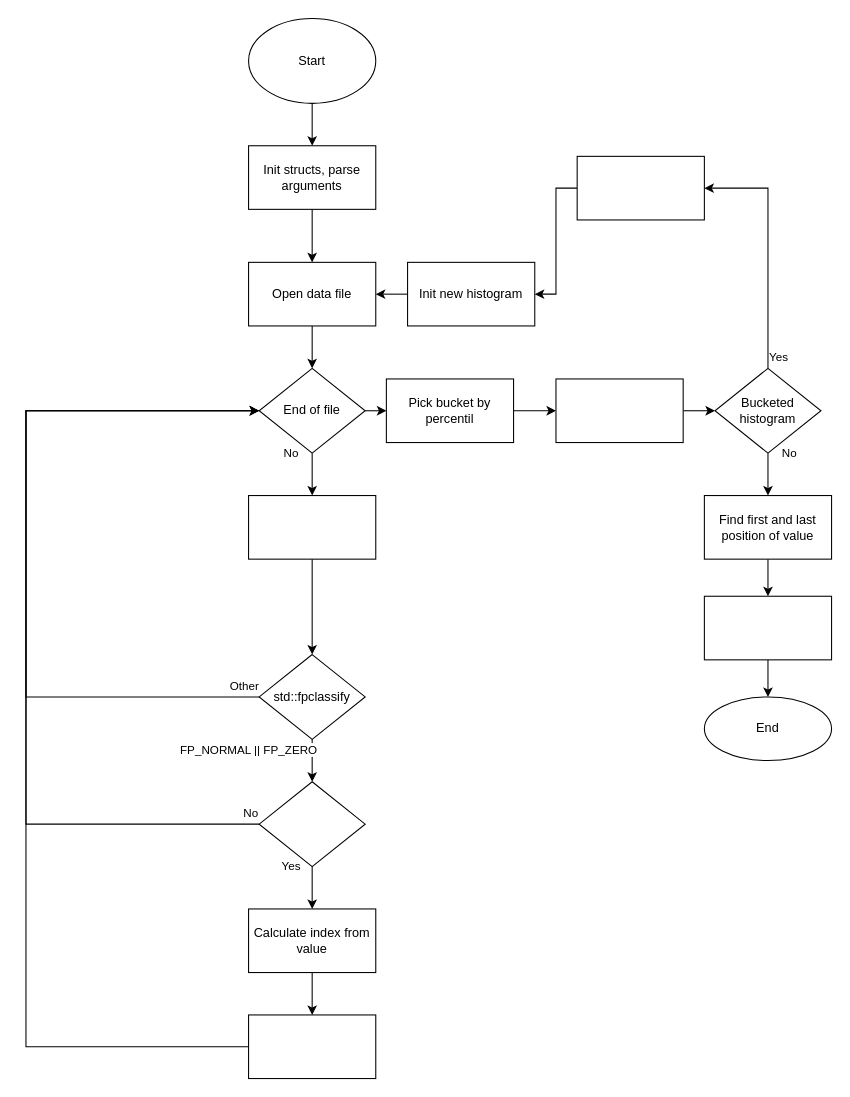
This 850x1097 diagram has some shape labels left out. The box of each missing label's shape, as (x1, y1, x2, y2) in pixels:
Add number to histogram: (248, 1014, 376, 1079)
Calculate new min and max: (576, 155, 704, 220)
Convert bucket index to value: (555, 378, 683, 443)
Load number: (248, 494, 376, 559)
Number in range: (258, 781, 365, 867)
Print results: (703, 595, 832, 660)
